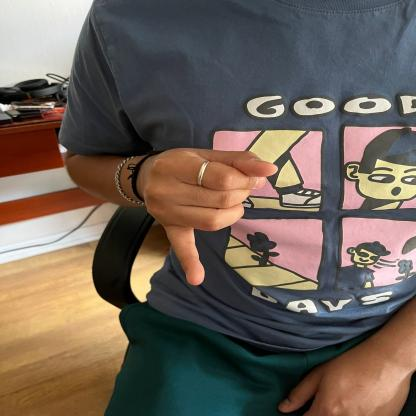Z: (139, 140, 284, 289)
